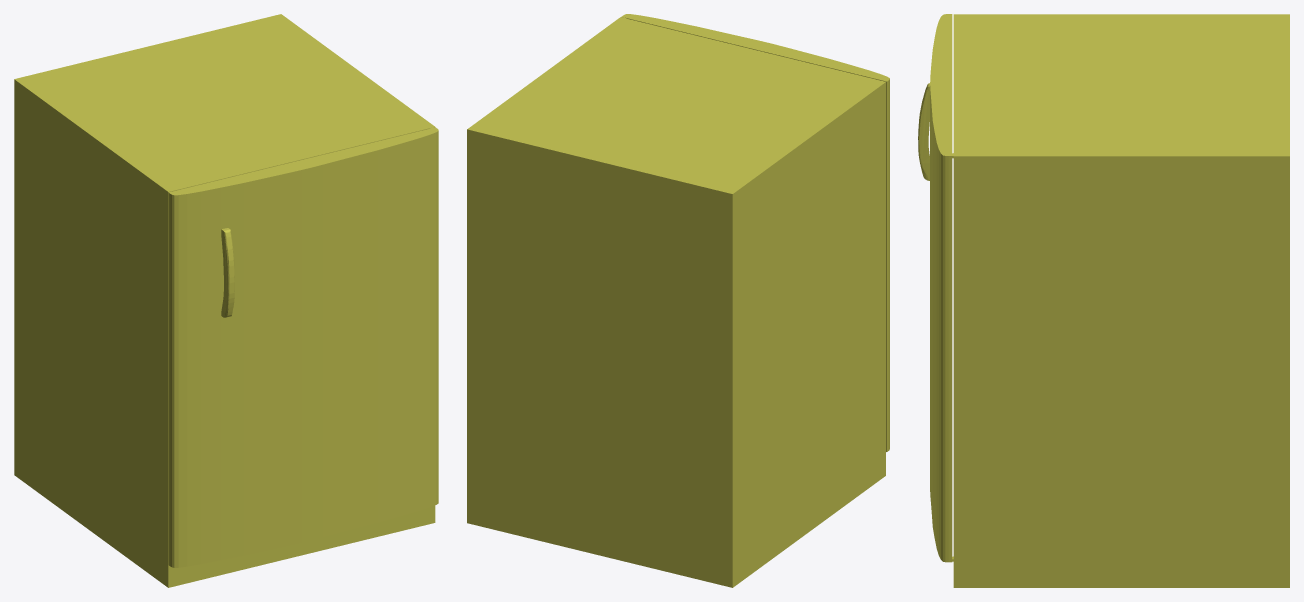
File: eteks-fridge.glb
The picture shows the model from 3 angles, left to right: view 1: azimuth 30°, elevation 25°; view 2: azimuth 150°, elevation 25°; view 3: azimuth 270°, elevation 25°; orthographic projection. The views are drawn at different scales.
Parts seen in each view (by area): view 1: Corps, sweethome3d_opening_on_hinge_1_door, sweethome3d_opening_on_hinge_1_handle; view 2: Corps, sweethome3d_opening_on_hinge_1_door; view 3: Corps, sweethome3d_opening_on_hinge_1_door, sweethome3d_opening_on_hinge_1_handle.
Boxes of the visible parts, bbox=[...] form: Corps: bbox=[14, 14, 435, 587]; sweethome3d_opening_on_hinge_1_door: bbox=[168, 127, 438, 567]; sweethome3d_opening_on_hinge_1_handle: bbox=[221, 228, 234, 317]; Corps: bbox=[467, 17, 885, 587]; sweethome3d_opening_on_hinge_1_door: bbox=[621, 14, 889, 451]; Corps: bbox=[953, 14, 1289, 587]; sweethome3d_opening_on_hinge_1_door: bbox=[930, 14, 952, 562]; sweethome3d_opening_on_hinge_1_handle: bbox=[918, 83, 929, 180].
Size of the model in its own units: 60.08 by 85 by 66.33.
